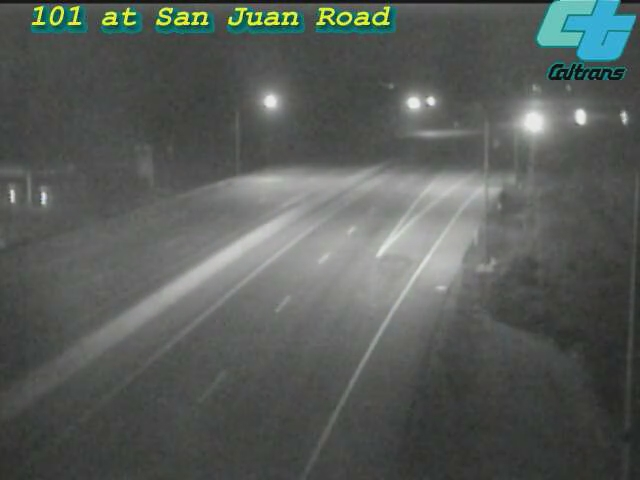vehicle: (504, 98, 554, 148), (553, 92, 603, 142)
